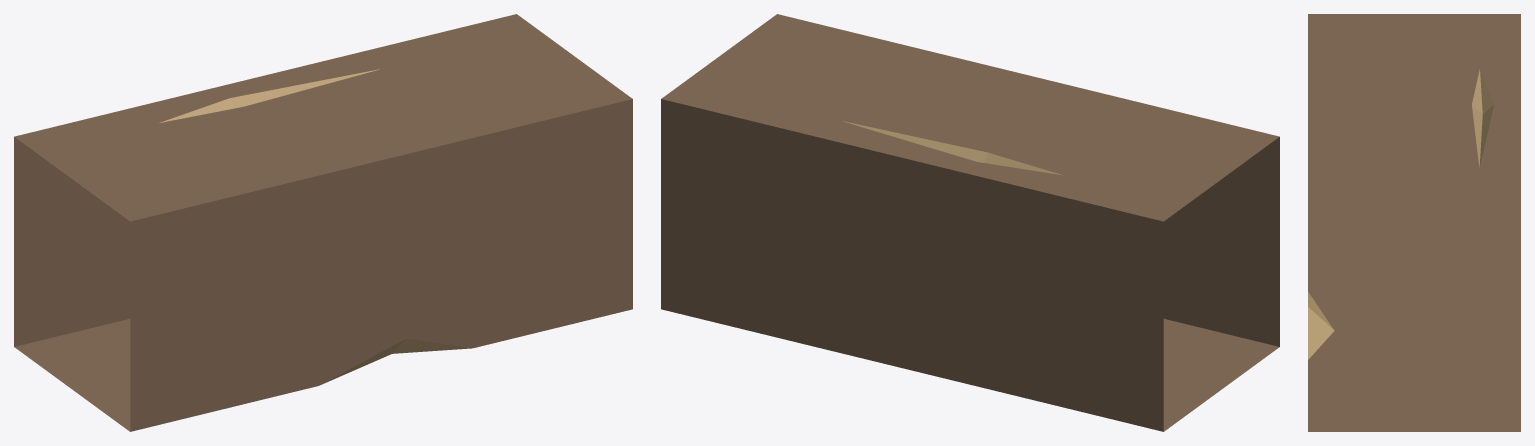
Rendered from Cave_Prop_Support_Ceiling_Beam_1.obj.
3 renders of one model, left to right at view 1: azimuth 30°, elevation 25°; view 2: azimuth 150°, elevation 25°; view 3: azimuth 270°, elevation 25°, orthographic. The views are drawn at different scales.
Parts seen in each view (by area): view 1: object1; view 2: object1; view 3: object1.
Part boxes in pixels (x1,y1,x2,y2): object1: [14, 14, 632, 431]; object1: [661, 14, 1279, 431]; object1: [1308, 14, 1520, 431].
Size of the model in its own units: 1 by 0.4 by 0.4.
